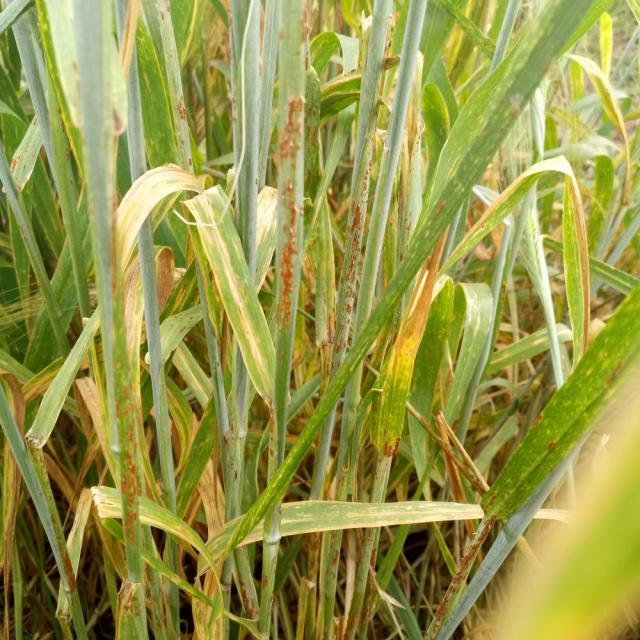wheat-stemrust: (274, 96, 305, 334)
